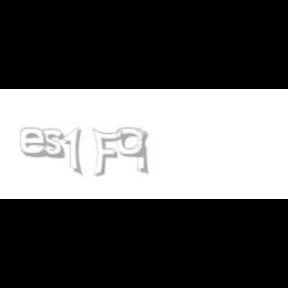1: (61, 128, 83, 176)
F: (91, 128, 123, 178)
e: (20, 128, 53, 158)
i: (136, 128, 152, 176)
o: (116, 128, 146, 158)
s: (41, 128, 69, 160)
